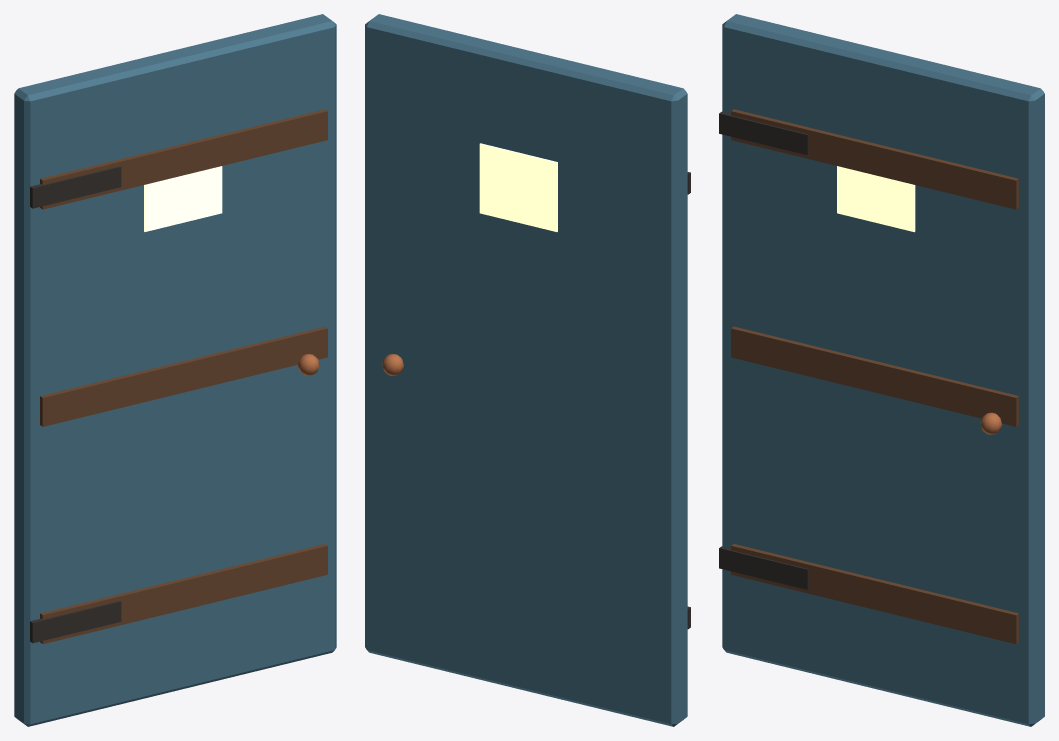
The model's file is door.glb.
3 views of the same model, side by side, from view 1: azimuth 30°, elevation 25°; view 2: azimuth 150°, elevation 25°; view 3: azimuth 330°, elevation 25° (orthographic).
Visible parts, largest first — view 1: Door; view 2: Door; view 3: Door.
Part boxes in pixels (bbox=[...]): Door: bbox=[14, 14, 336, 726]; Door: bbox=[365, 14, 690, 726]; Door: bbox=[719, 14, 1044, 726].
Bounding box in the file's own units: 1.13 × 2.18 × 0.23.
